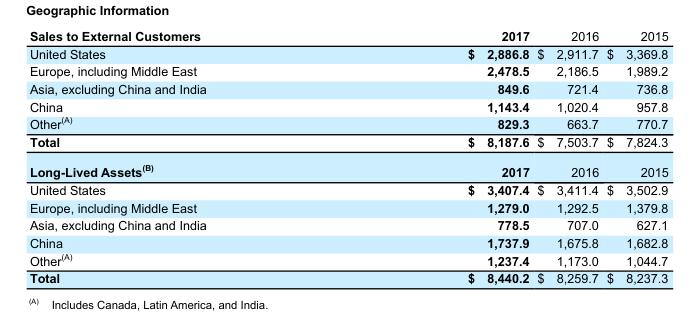table: (28, 28, 667, 285)
table column: (28, 28, 336, 285), (336, 28, 532, 285), (532, 28, 602, 285), (602, 28, 667, 285)
table column header: (28, 28, 667, 44)
table row: (28, 155, 667, 180), (28, 132, 667, 155), (28, 250, 667, 269), (28, 44, 667, 62), (28, 79, 667, 97), (28, 114, 667, 132), (28, 180, 667, 198), (28, 198, 667, 216), (28, 62, 667, 79), (28, 97, 667, 114), (28, 216, 667, 233), (28, 233, 667, 250), (28, 28, 667, 44), (28, 269, 667, 285)
